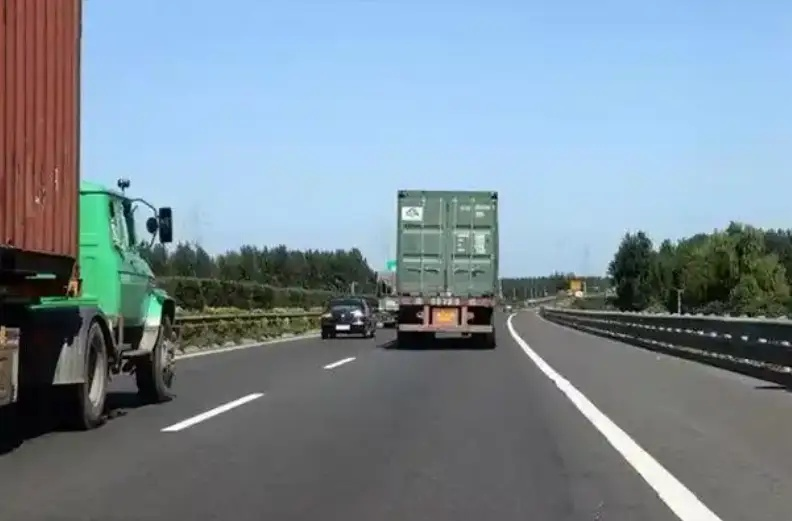lane: (498, 310, 723, 521), (162, 391, 270, 429), (322, 351, 367, 373)
